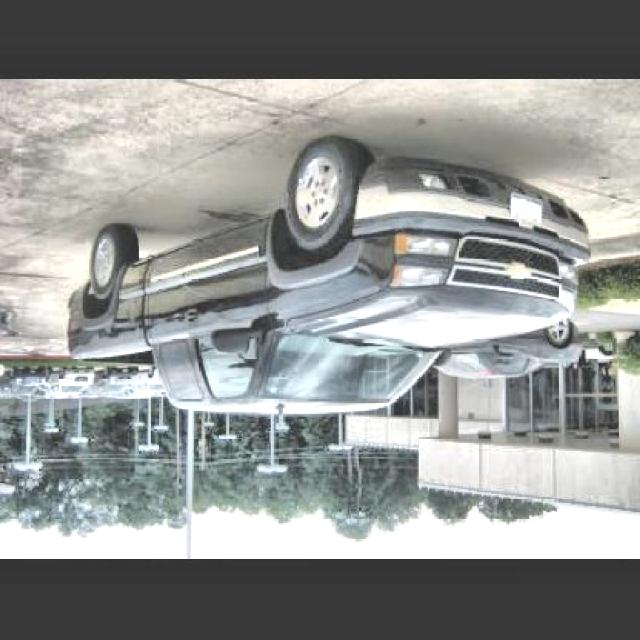black: (47, 141, 581, 422)
